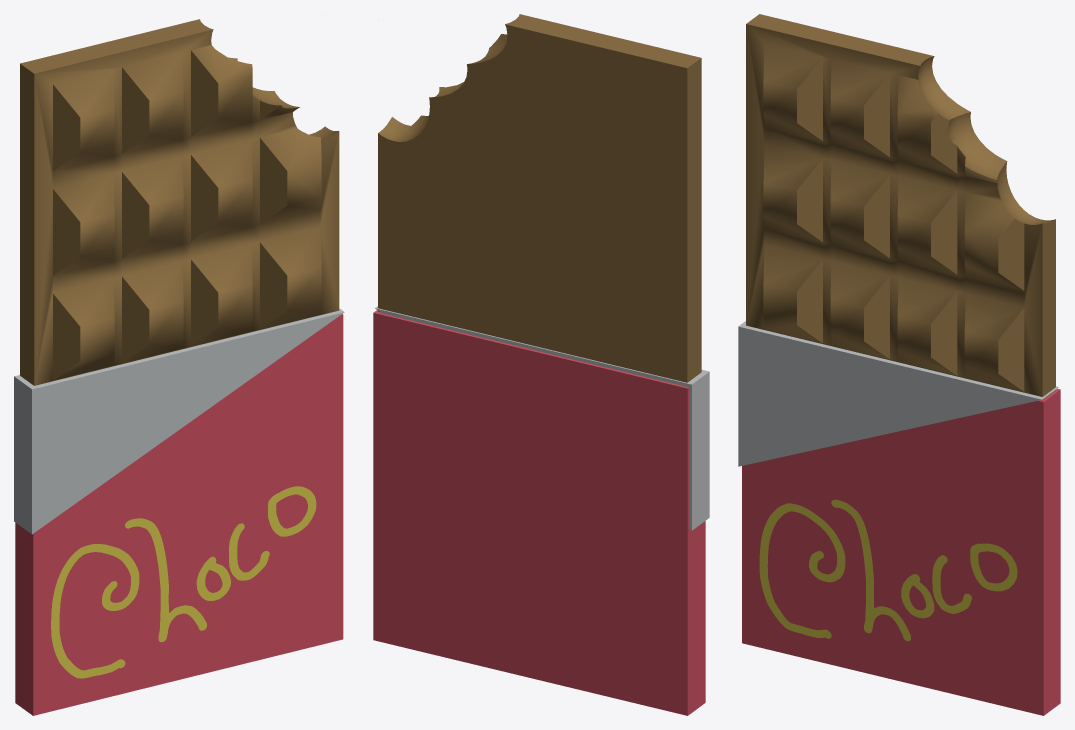
Rendered from chocolateBar.gltf.
3 views of the same model, side by side, from view 1: azimuth 30°, elevation 25°; view 2: azimuth 150°, elevation 25°; view 3: azimuth 330°, elevation 25° (orthographic). The views are drawn at different scales.
Parts seen in each view (by area): view 1: Mesh_Mesh_head_geo.001_lambert2SG.001_0; view 2: Mesh_Mesh_head_geo.001_lambert2SG.001_0; view 3: Mesh_Mesh_head_geo.001_lambert2SG.001_0.
Boxes of the visible parts, box(x1,y1,x2,y2) form: Mesh_Mesh_head_geo.001_lambert2SG.001_0: box(14, 19, 344, 715); Mesh_Mesh_head_geo.001_lambert2SG.001_0: box(373, 14, 709, 715); Mesh_Mesh_head_geo.001_lambert2SG.001_0: box(738, 14, 1060, 715).
Bounding box in the file's own units: 122 × 238 × 21.07.
